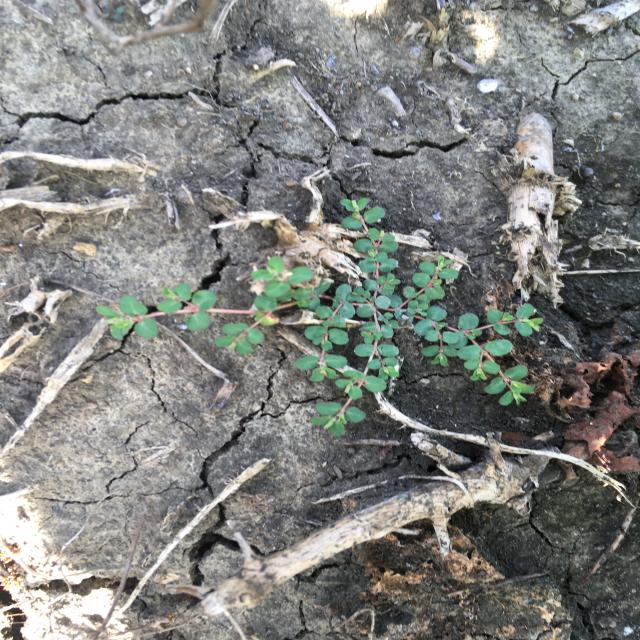SpottedSpurge: (92, 196, 547, 438)
